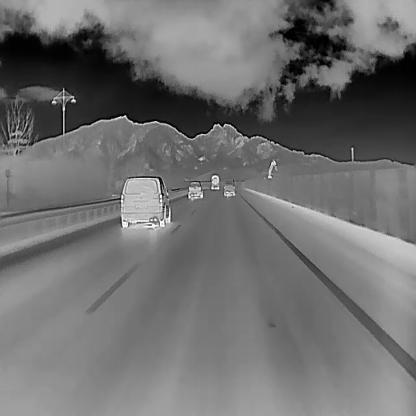car: (119, 174, 171, 227), (187, 180, 203, 199), (222, 176, 235, 197), (209, 172, 219, 190)
